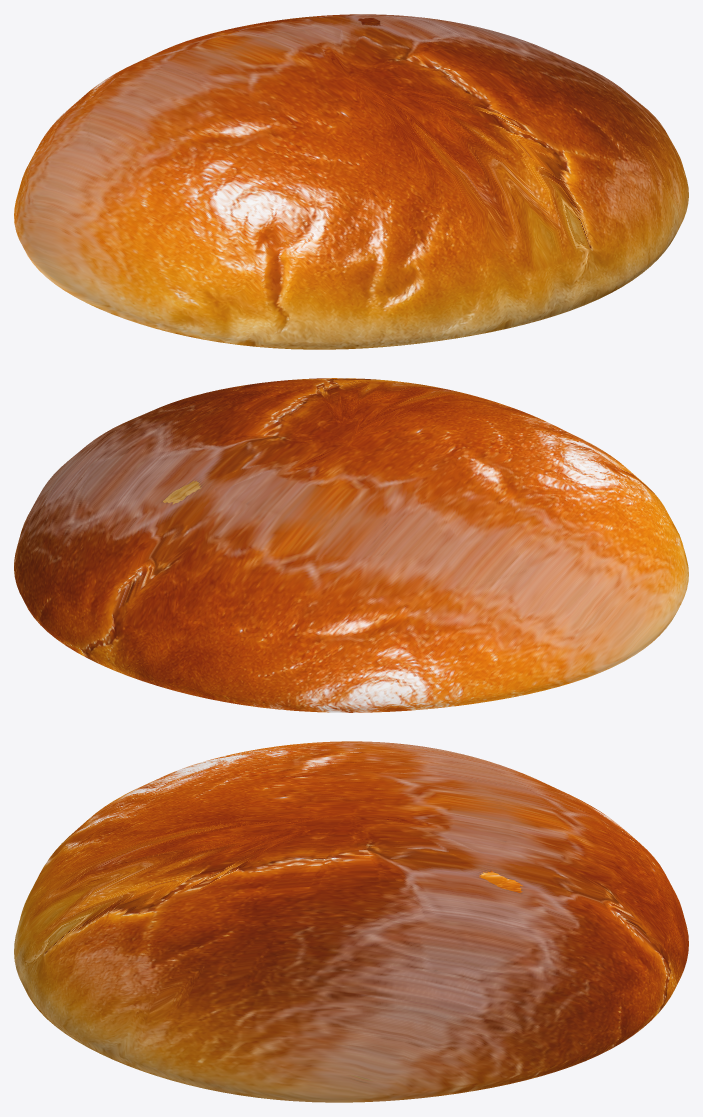
The model's file is bun-top.glb.
3 renders of one model, top to bottom at view 1: azimuth 30°, elevation 25°; view 2: azimuth 150°, elevation 25°; view 3: azimuth 270°, elevation 25°, orthographic. The views are drawn at different scales.
Visible parts, largest first — view 1: bun-top; view 2: bun-top; view 3: bun-top.
Part boxes in pixels (left/top/right/bottom): bun-top: left=14, top=14, right=688, bottom=349; bun-top: left=14, top=378, right=688, bottom=712; bun-top: left=14, top=741, right=688, bottom=1102.
Bounding box in the file's own units: 1 × 0.23 × 0.94.
1 material, 1 textured.
